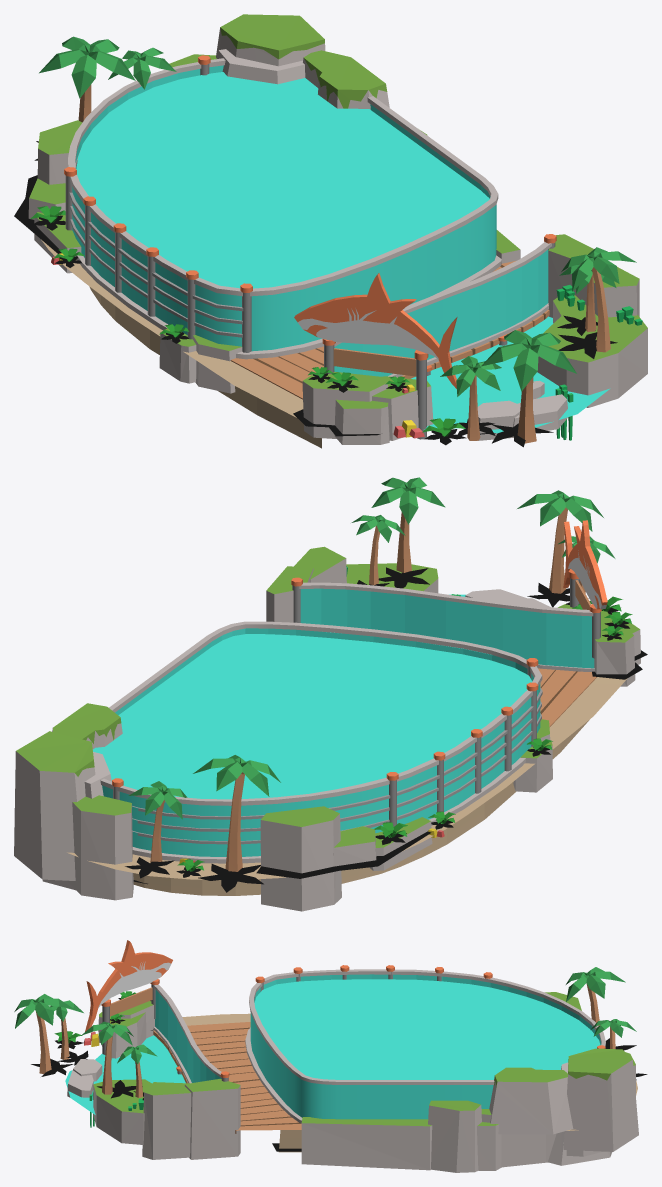
File: xweilan_1020_4.FBX
The picture shows the model from 3 angles, top to bottom: view 1: azimuth 30°, elevation 25°; view 2: azimuth 150°, elevation 25°; view 3: azimuth 270°, elevation 25°; orthographic projection. The views are drawn at different scales.
Visible parts, largest first — view 1: xweilan_1020_4; view 2: xweilan_1020_4; view 3: xweilan_1020_4.
Part boxes in pixels (x1,y1,x2,y2): xweilan_1020_4: (14, 14, 647, 448); xweilan_1020_4: (14, 477, 647, 911); xweilan_1020_4: (14, 940, 647, 1172).
Size of the model in its own units: 4415 by 2261 by 9105.
